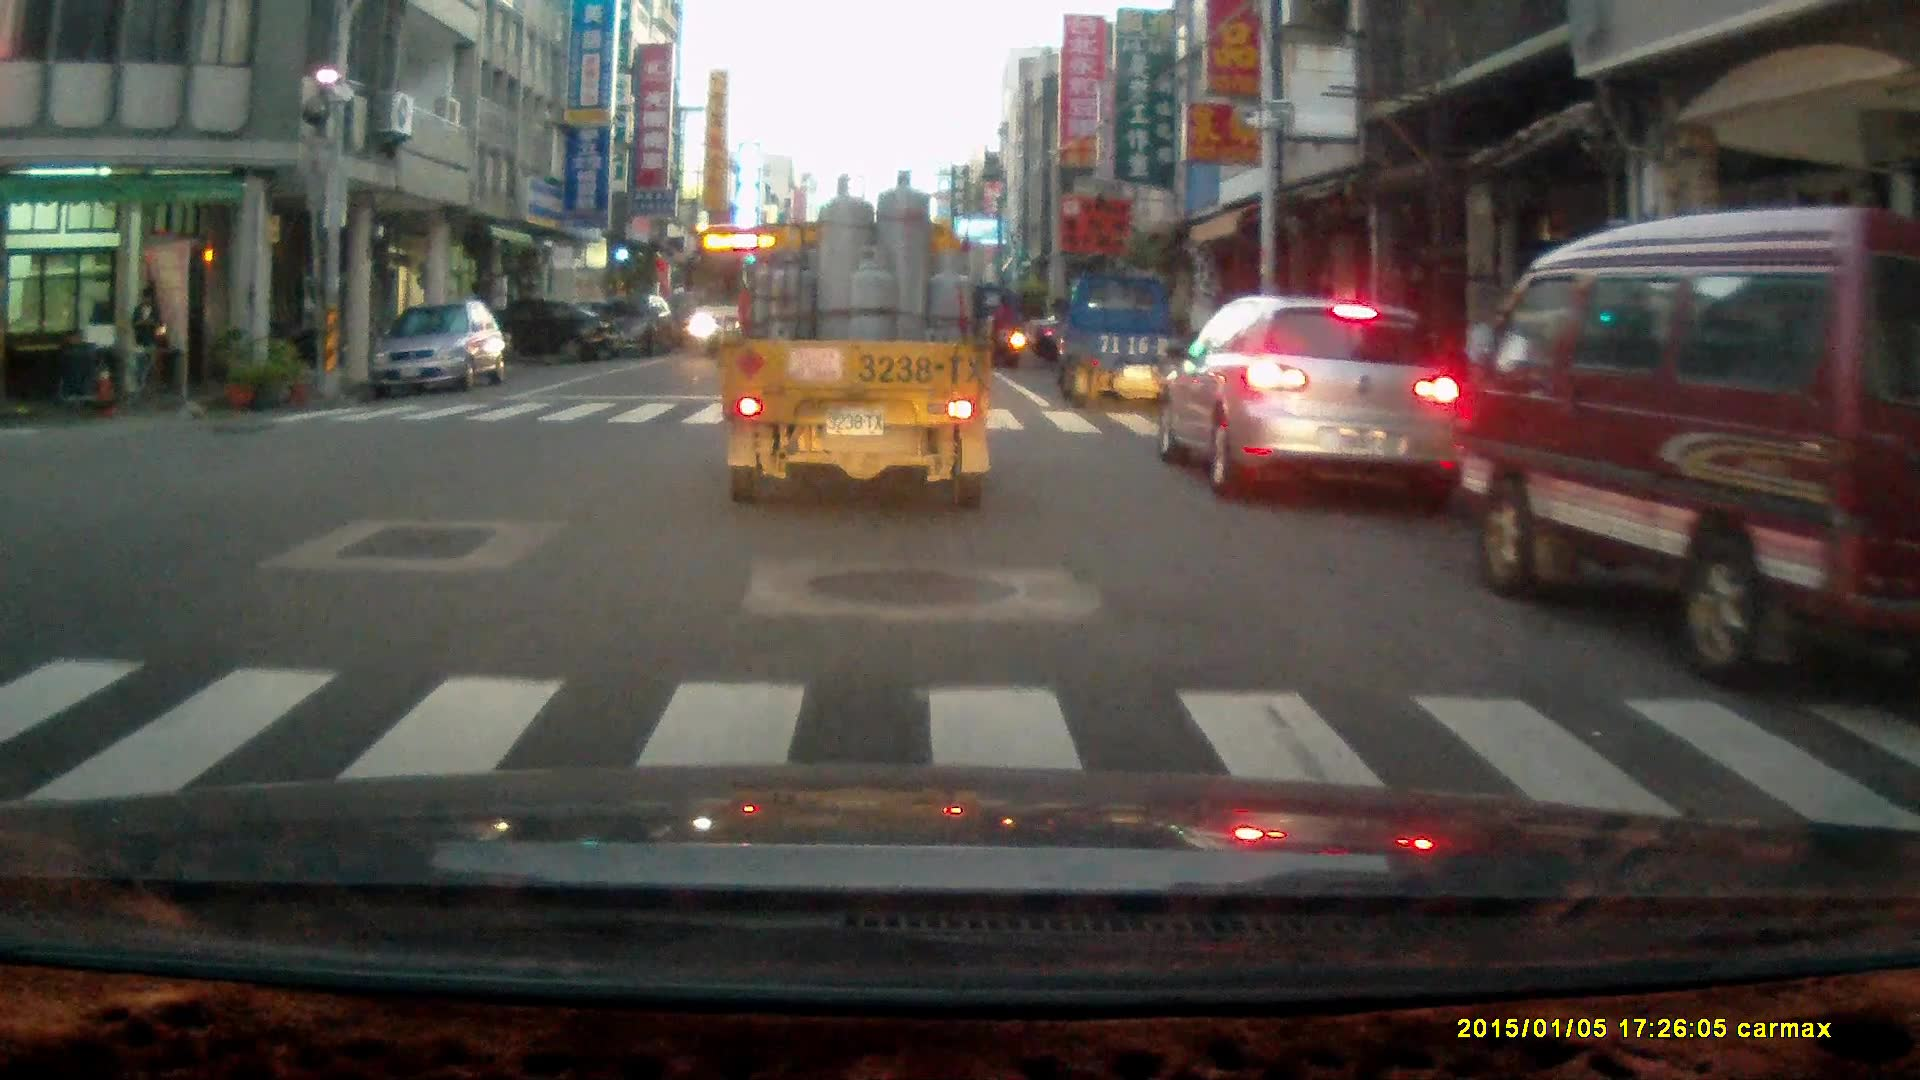pedestrian: (128, 284, 165, 408)
vehicle: (1454, 206, 1920, 694), (725, 216, 1001, 497), (1161, 288, 1460, 501), (1055, 272, 1200, 413), (361, 300, 508, 393), (450, 293, 615, 363), (578, 290, 680, 357)
